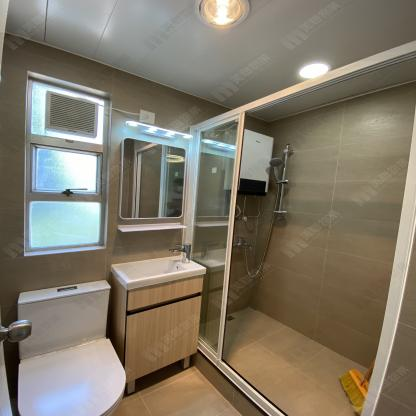Exhaust Fan: (45, 90, 98, 139)
Faucet: (168, 242, 192, 263)
Toilet: (15, 278, 134, 416)
Toilet Sink: (110, 254, 207, 290)
Water Cubicle: (187, 41, 416, 415)
Water Heater: (222, 128, 274, 193)
